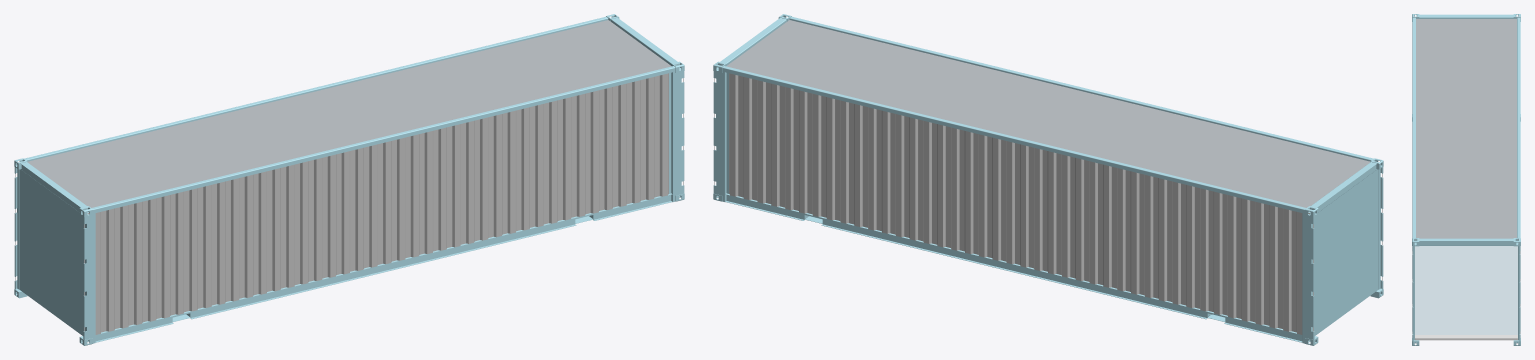
Rendered from blue_container_body.dae.
The picture shows the model from 3 angles, left to right: view 1: azimuth 30°, elevation 25°; view 2: azimuth 150°, elevation 25°; view 3: azimuth 270°, elevation 25°; orthographic projection. The views are drawn at different scales.
Visible parts, largest first — view 1: 636d52f9f5c41537468aba4e.012, 636d52f9f5c41537468aba4e.011, 636d52f9f5c41537468aba4e.001; view 2: 636d52f9f5c41537468aba4e.010, 636d52f9f5c41537468aba4e.011, 636d52f9f5c41537468aba4e.001; view 3: 636d52f9f5c41537468aba4e.011, 636d52f9f5c41537468aba4e, 636d52f9f5c41537468aba4e.001, 636d52f9f5c41537468aba4e.013.
Part boxes in pixels (x1,y1,x2,y2): 636d52f9f5c41537468aba4e.012: [87, 73, 668, 334]; 636d52f9f5c41537468aba4e.011: [27, 20, 671, 207]; 636d52f9f5c41537468aba4e.001: [14, 14, 684, 345]; 636d52f9f5c41537468aba4e.010: [729, 73, 1310, 334]; 636d52f9f5c41537468aba4e.011: [726, 20, 1370, 207]; 636d52f9f5c41537468aba4e.001: [713, 14, 1383, 345]; 636d52f9f5c41537468aba4e.011: [1416, 19, 1516, 238]; 636d52f9f5c41537468aba4e: [1415, 246, 1517, 334]; 636d52f9f5c41537468aba4e.001: [1412, 14, 1520, 345]; 636d52f9f5c41537468aba4e.013: [1415, 335, 1517, 340].
Bounding box in the file's own units: 12.07 × 2.44 × 2.59.
